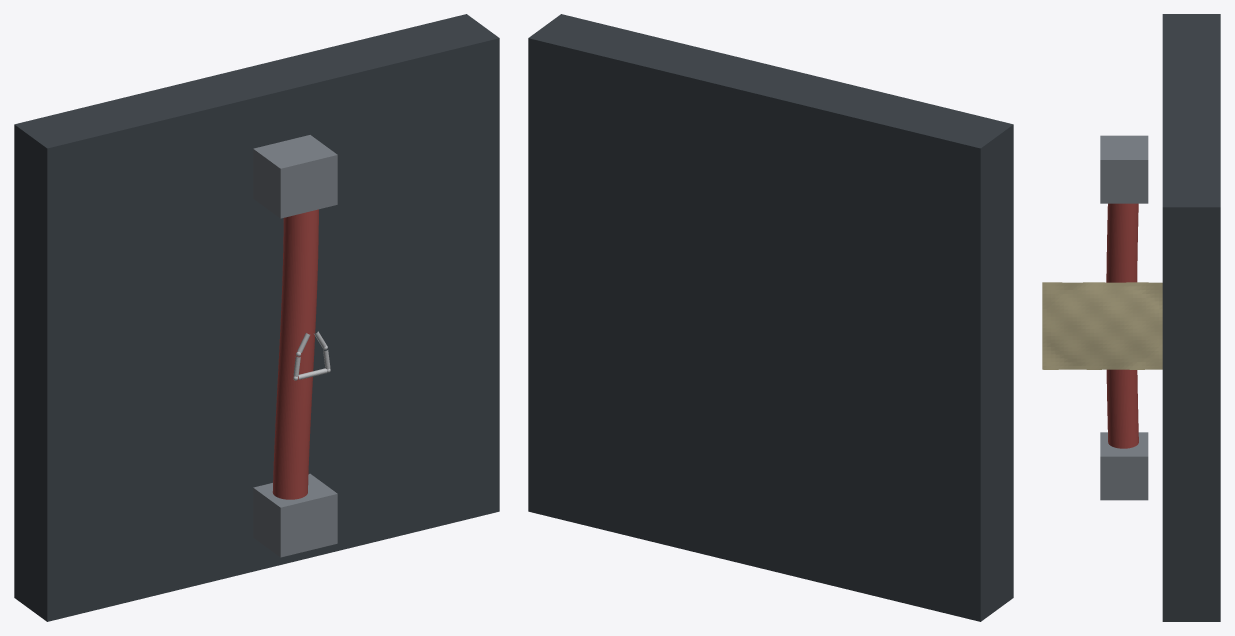
The model's file is dranmar_sealed_vessel.glb.
3 views of the same model, side by side, from view 1: azimuth 30°, elevation 25°; view 2: azimuth 150°, elevation 25°; view 3: azimuth 270°, elevation 25° (orthographic). The views are drawn at different scales.
Visible parts, largest first — view 1: FixtureBase, Vessel, AnchorMax, AnchorMin, FormedClip; view 2: FixtureBase; view 3: FixtureBase, Patch, Vessel, AnchorMax, AnchorMin.
Part boxes in pixels (x1=…): FixtureBase: x1=14, y1=14, x2=499, y2=621; Vessel: x1=272, y1=209, x2=318, y2=499; AnchorMax: x1=253, y1=135, x2=337, y2=218; AnchorMin: x1=253, y1=473, x2=337, y2=557; FormedClip: x1=293, y1=331, x2=330, y2=380; FixtureBase: x1=528, y1=14, x2=1013, y2=621; FixtureBase: x1=1162, y1=14, x2=1220, y2=621; Patch: x1=1042, y1=282, x2=1162, y2=369; Vessel: x1=1106, y1=203, x2=1138, y2=448; AnchorMax: x1=1100, y1=135, x2=1148, y2=203; AnchorMin: x1=1100, y1=432, x2=1148, y2=500.
Bounding box in the file's own units: 0.095 × 0.095 × 0.037.
